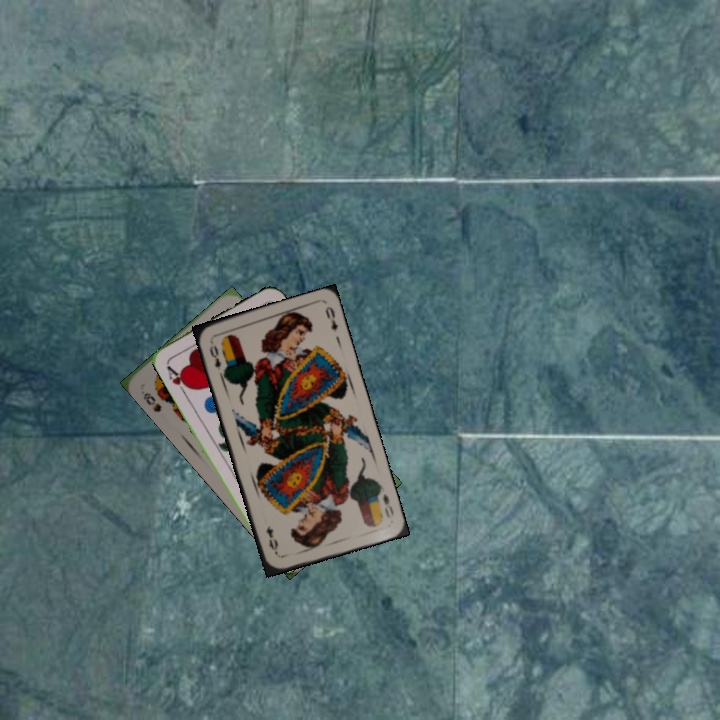EO: (205, 337, 223, 373), (378, 490, 397, 520)
HA: (162, 360, 193, 397)
S8: (139, 388, 164, 415)
